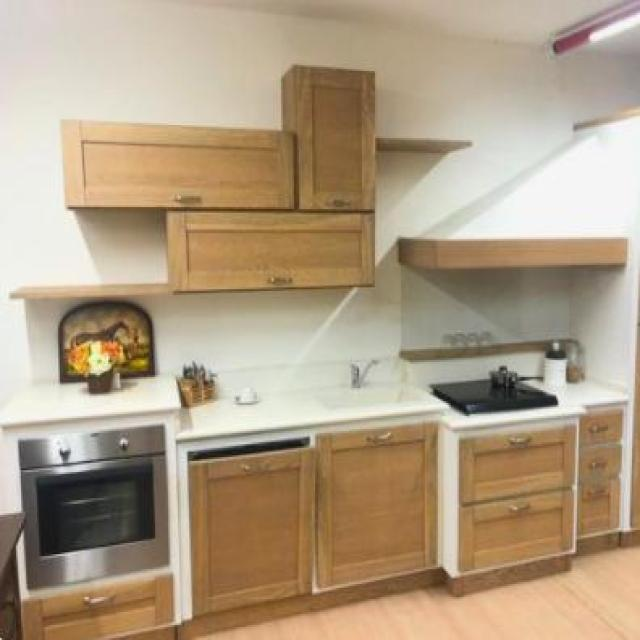dishwasher: (186, 431, 322, 605)
